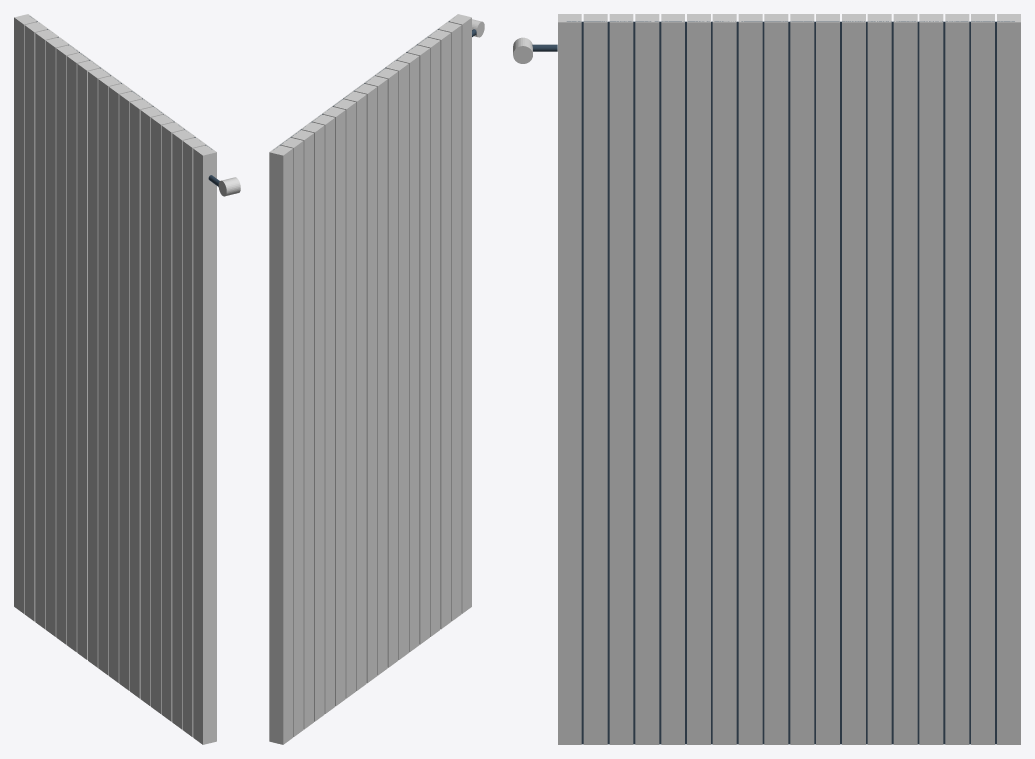
File: Heizung.fbx
3 views of the same model, side by side, from view 1: azimuth 30°, elevation 25°; view 2: azimuth 150°, elevation 25°; view 3: azimuth 270°, elevation 25° (orthographic). The views are drawn at different scales.
Parts seen in each view (by area): view 1: Cube; view 2: Cube; view 3: Cube.
Boxes of the visible parts, <box> form: Cube: <box>14,14,240,744</box>; Cube: <box>269,14,484,744</box>; Cube: <box>513,14,1020,744</box>.
Bounding box in the file's own units: 13.93 × 400 × 255.
